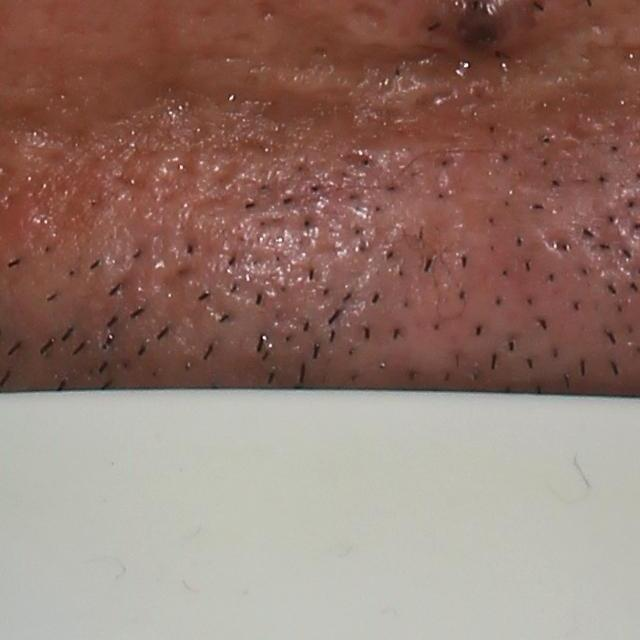atrophic_scar: (132, 80, 224, 147), (256, 15, 348, 82), (531, 85, 627, 145), (356, 40, 459, 94), (533, 221, 576, 258), (346, 0, 387, 33)
